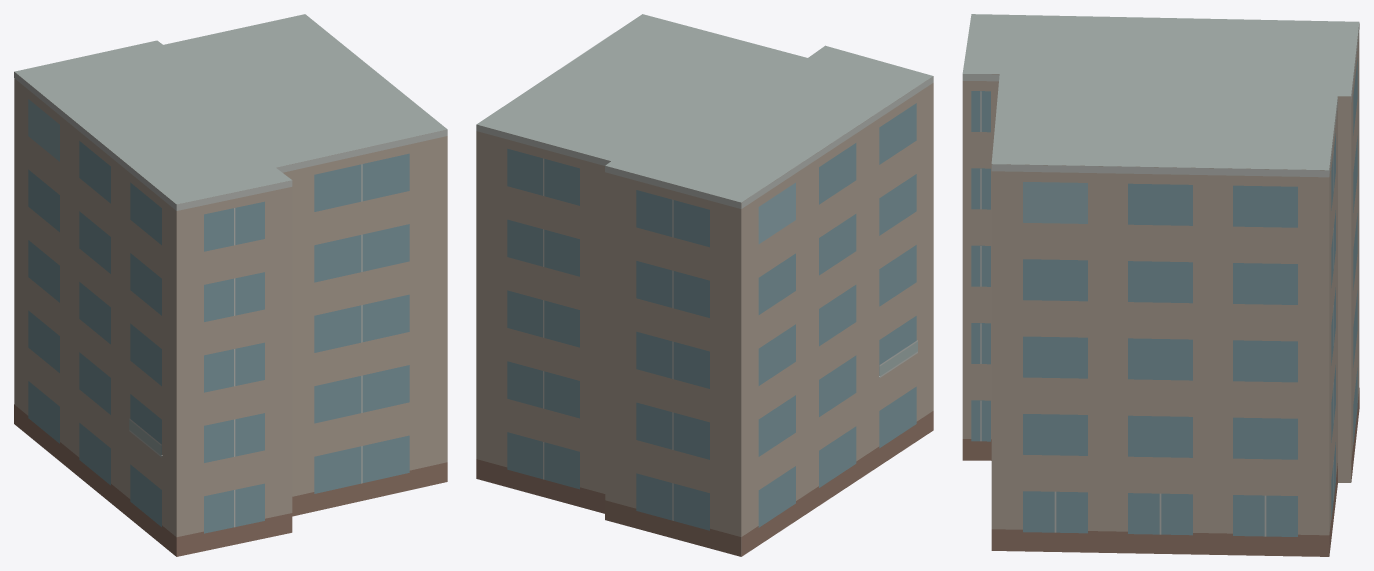
The model's file is survey-upis-32499303.glb.
The picture shows the model from 3 angles, left to right: view 1: azimuth 30°, elevation 25°; view 2: azimuth 150°, elevation 25°; view 3: azimuth 270°, elevation 25°; orthographic projection. The views are drawn at different scales.
Parts seen in each view (by area): view 1: survey-upis-32499303.tmp; view 2: survey-upis-32499303.tmp; view 3: survey-upis-32499303.tmp.
Boxes of the visible parts, x1,y1,x2,y2 form: survey-upis-32499303.tmp: [14, 14, 447, 556]; survey-upis-32499303.tmp: [476, 14, 933, 556]; survey-upis-32499303.tmp: [962, 14, 1359, 556].
Size of the model in its own units: 11.44 by 13.2 by 12.29.
